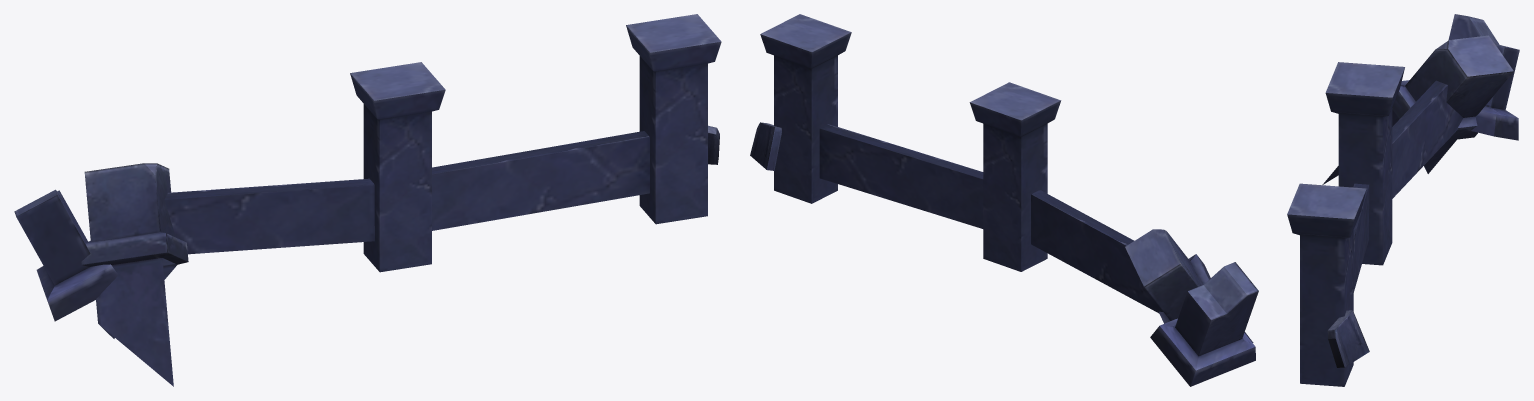
The model's file is Area06_19.fbx.
The picture shows the model from 3 angles, left to right: view 1: azimuth 30°, elevation 25°; view 2: azimuth 150°, elevation 25°; view 3: azimuth 270°, elevation 25°; orthographic projection. The views are drawn at different scales.
Parts seen in each view (by area): view 1: Area06_19; view 2: Area06_19; view 3: Area06_19.
Part boxes in pixels (left/top/right/bottom): Area06_19: left=14, top=14, right=721, bottom=386; Area06_19: left=750, top=14, right=1258, bottom=386; Area06_19: left=1287, top=14, right=1519, bottom=386.
Bounding box in the file's own units: 2626 × 900 × 853.
